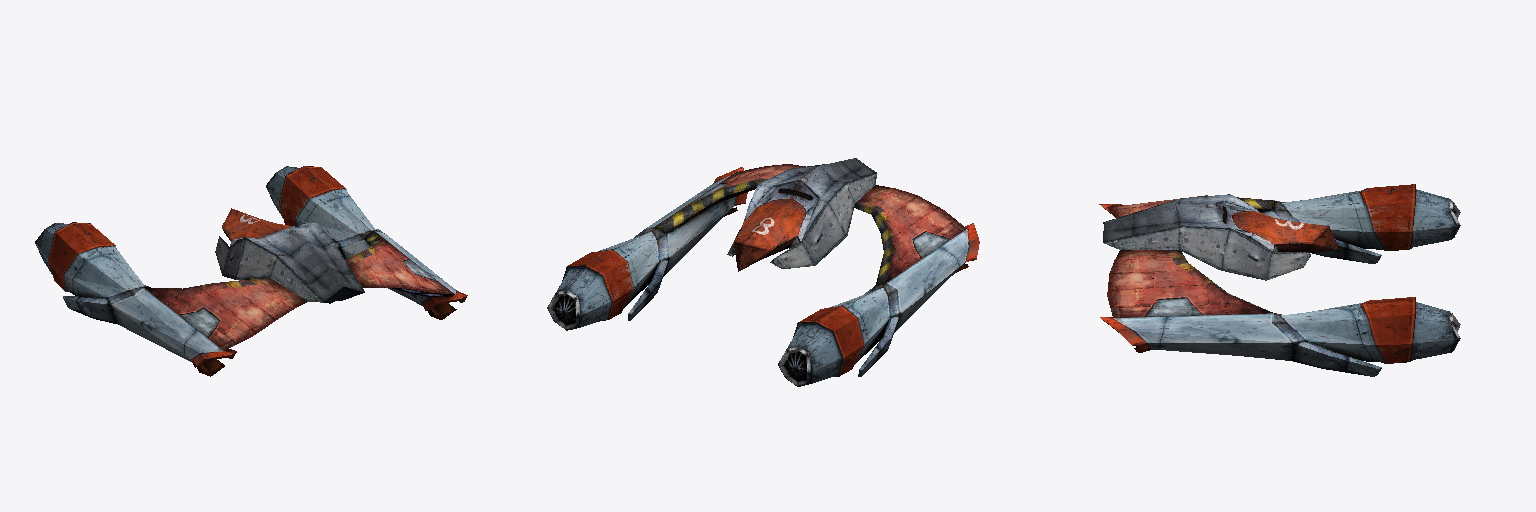
3 views of the same model, side by side, from view 1: azimuth 30°, elevation 25°; view 2: azimuth 150°, elevation 25°; view 3: azimuth 270°, elevation 25° (orthographic).
Parts seen in each view (by area): view 1: Craft.0_Craft.0; view 2: Craft.0_Craft.0; view 3: Craft.0_Craft.0.
Boxes of the visible parts, x1,y1,x2,y2 form: Craft.0_Craft.0: [35, 166, 467, 376]; Craft.0_Craft.0: [547, 158, 979, 386]; Craft.0_Craft.0: [1099, 184, 1460, 376].
Bounding box in the file's own units: 5.13 × 1.74 × 5.42.
Materials: 1 (1 with a texture image).